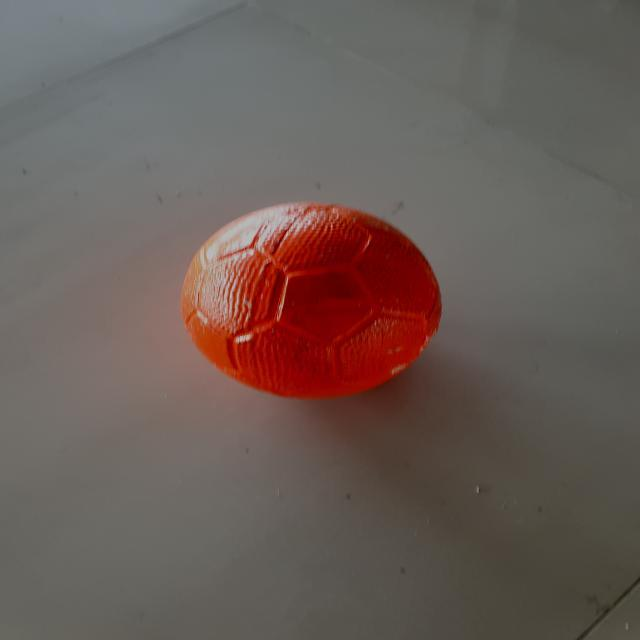bola: (160, 200, 450, 413)
